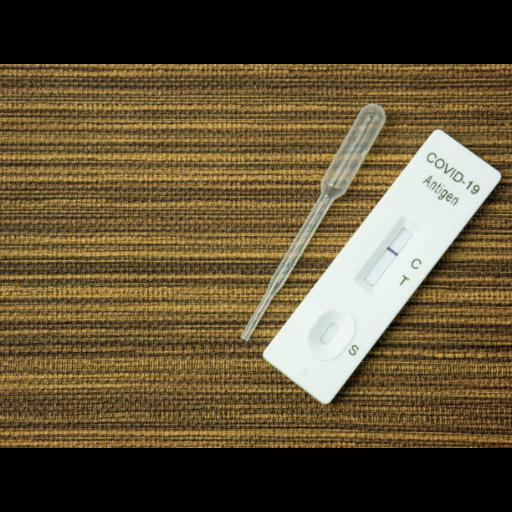Neg: (261, 127, 503, 405)
